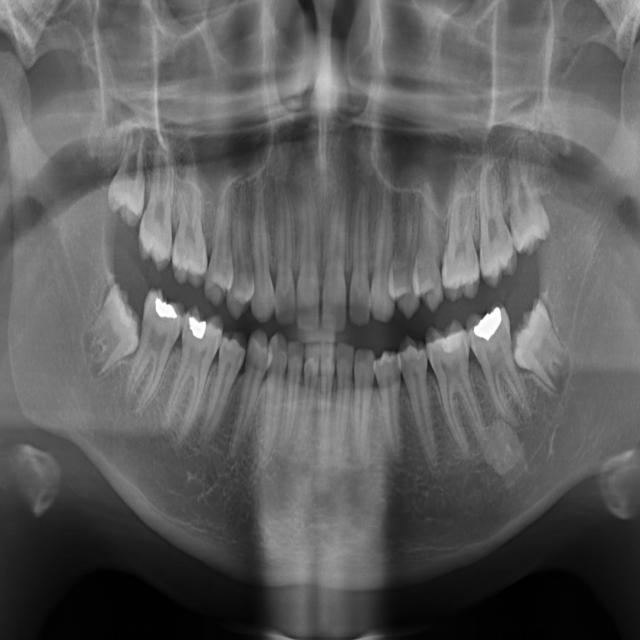AmalgamRestoration: (474, 306, 506, 344), (155, 296, 179, 326), (190, 316, 208, 338)
CompositeResinRestoration: (432, 325, 466, 359)
DentalCaries: (175, 321, 191, 343)
